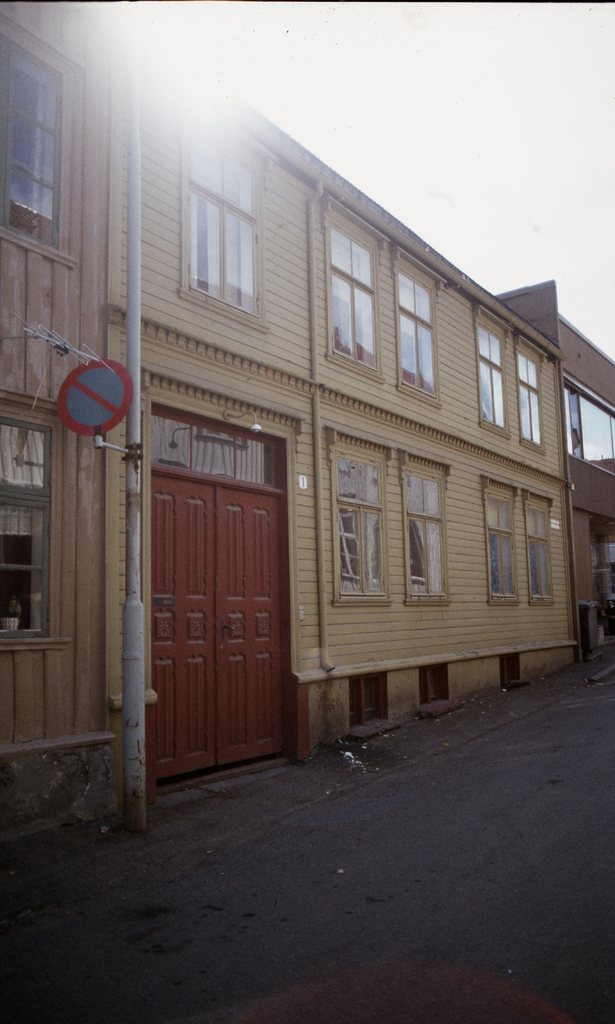door: (151, 486, 216, 755), (217, 491, 280, 745)
